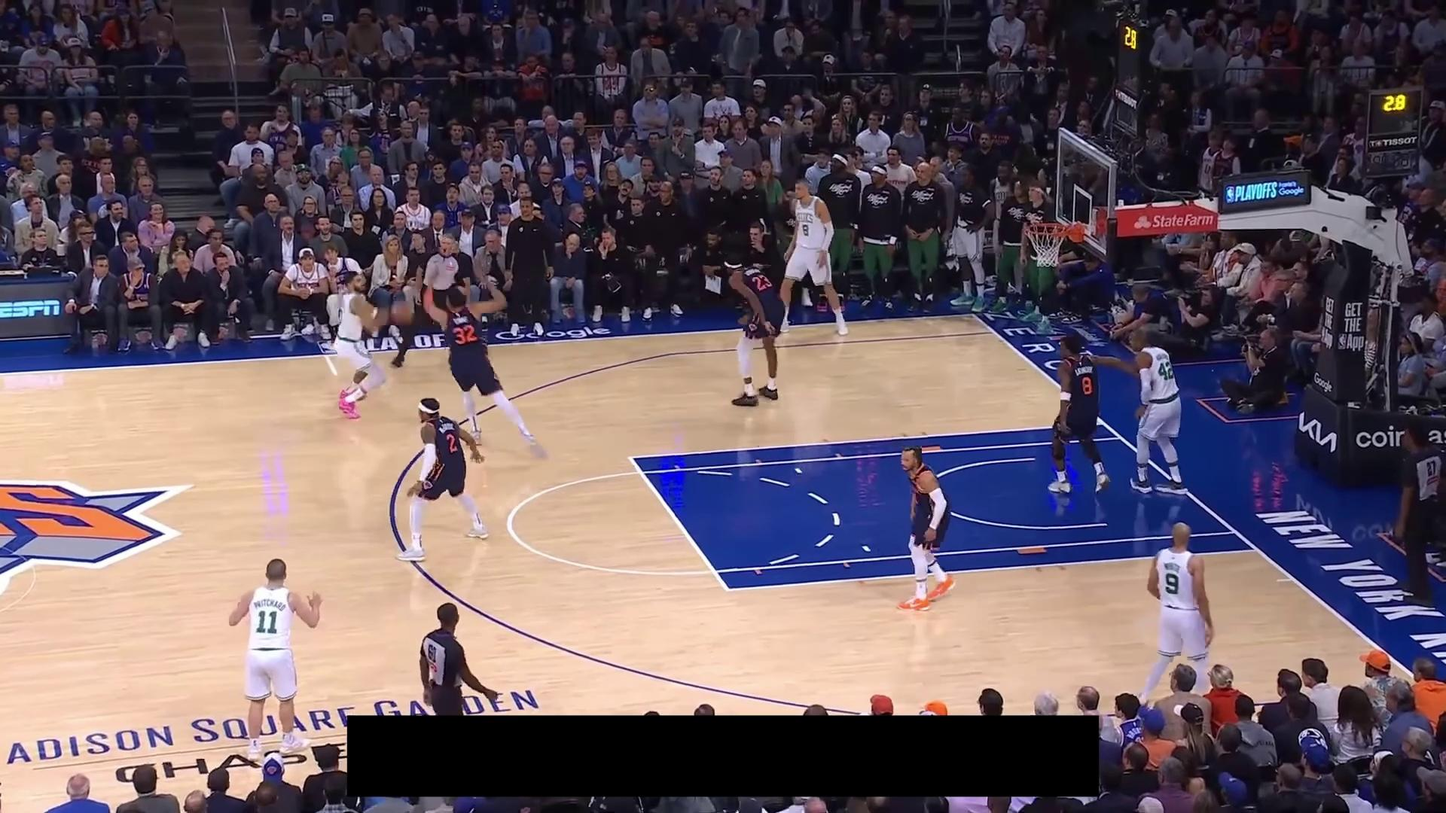ball: (391, 301, 412, 325)
number: (256, 610, 279, 635), (453, 324, 475, 344), (1165, 572, 1179, 595), (1158, 361, 1174, 380), (1081, 376, 1093, 396), (446, 434, 457, 453), (801, 222, 810, 237)
player: (419, 250, 547, 461), (228, 557, 325, 767), (392, 397, 491, 562), (1136, 520, 1219, 711), (1045, 332, 1136, 496), (776, 177, 850, 337), (1126, 323, 1189, 497), (895, 443, 956, 612), (723, 249, 783, 408)
player-in-possession: (331, 269, 413, 420)
player-shot-block: (419, 250, 548, 461)
referee: (395, 232, 474, 370), (419, 602, 498, 716), (1393, 424, 1442, 602)
rim: (1022, 222, 1069, 236)
